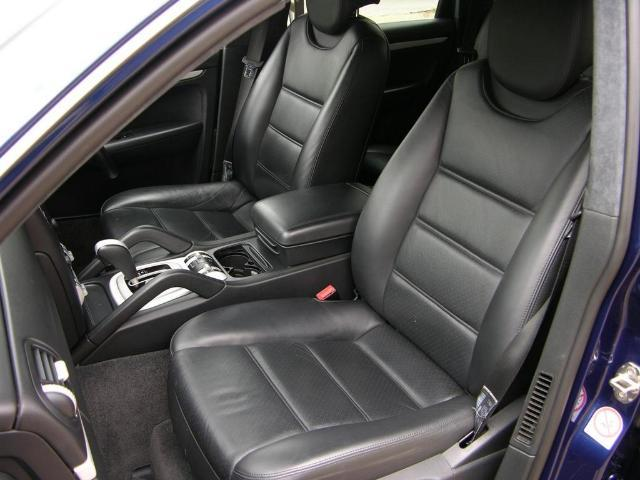Seatbelt: (466, 207, 586, 449), (221, 18, 271, 182)
